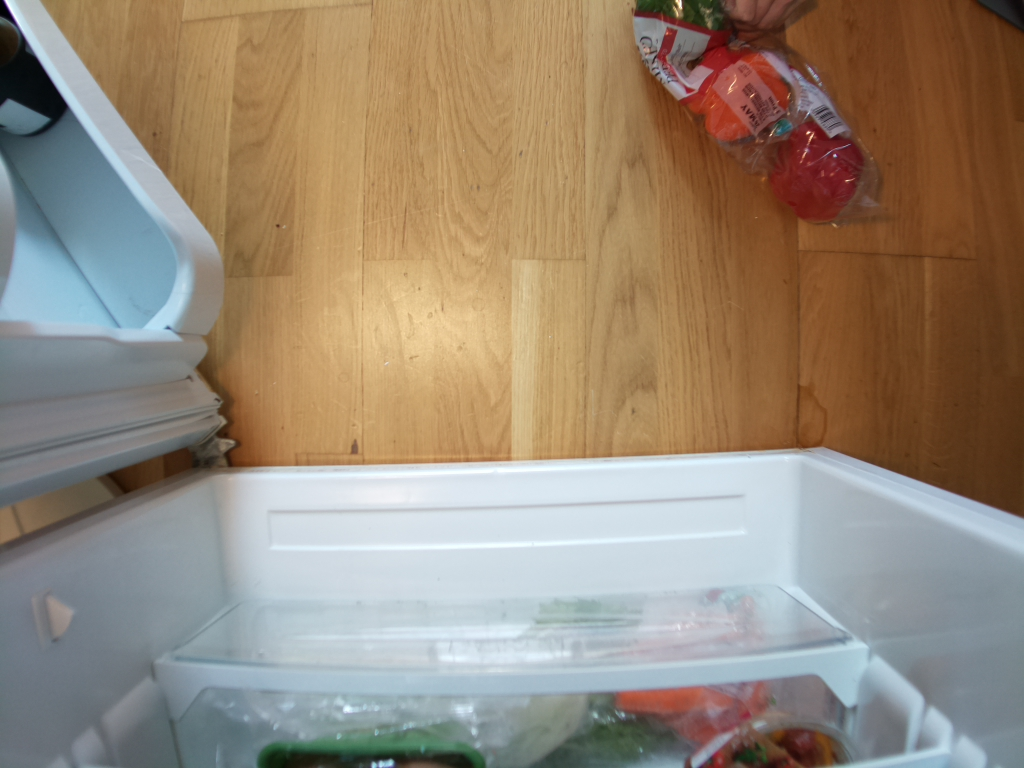pepper: (680, 39, 798, 142), (767, 120, 867, 225), (640, 1, 738, 61)
